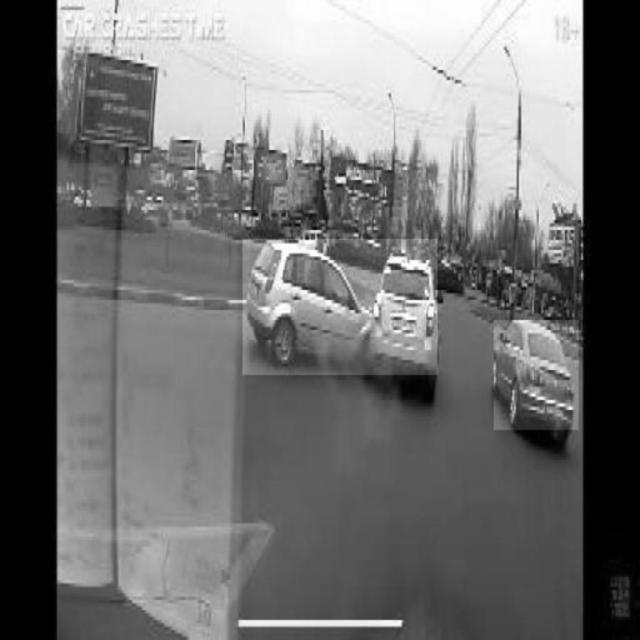vehicle: (243, 239, 438, 375), (495, 320, 579, 431)
